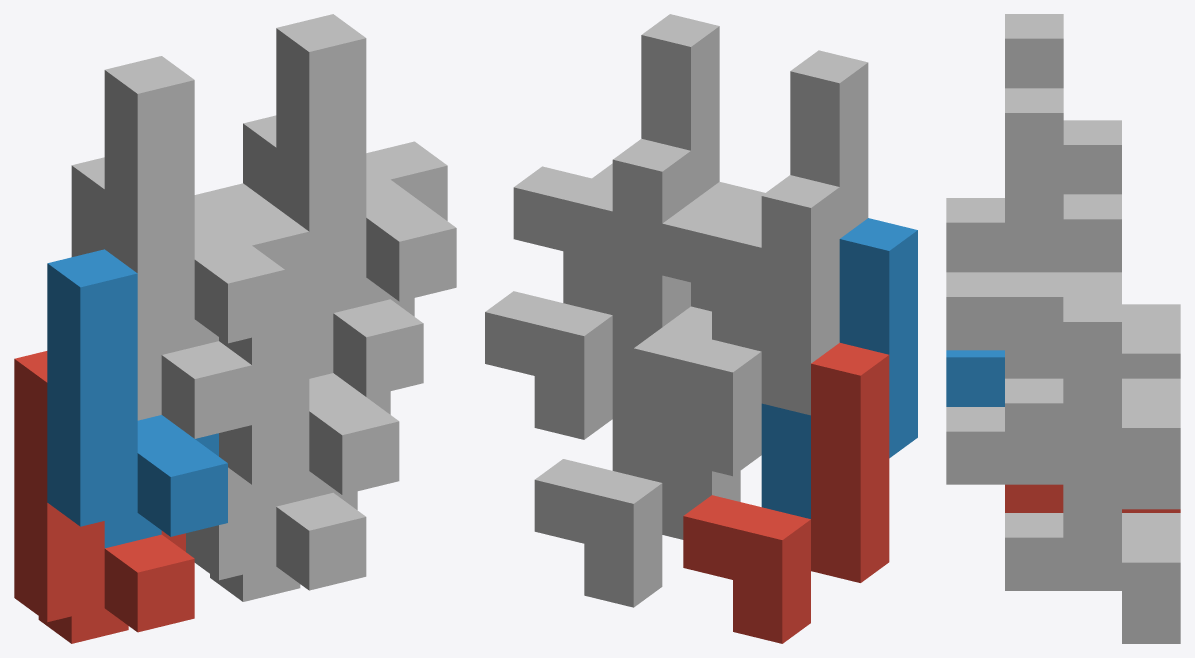
The model's file is tiling.obj.
3 renders of one model, left to right at view 1: azimuth 30°, elevation 25°; view 2: azimuth 150°, elevation 25°; view 3: azimuth 270°, elevation 25°, orthographic. The views are drawn at different scales.
Parts seen in each view (by area): view 1: copy_1_domain_8, copy_1_domain_2, copy_1_domain_4, copy_1_domain_6, copy_1_domain_1, copy_1_domain_5, copy_1_domain_3, copy_1_domain_7; view 2: copy_1_domain_1, copy_1_domain_3, copy_1_domain_7, copy_1_domain_4, copy_1_domain_8, copy_1_domain_5, copy_1_domain_2, copy_1_domain_6; view 3: copy_1_domain_8, copy_1_domain_7, copy_1_domain_5, copy_1_domain_6, copy_1_domain_4, copy_1_domain_3, copy_1_domain_2, copy_1_domain_1.
Boxes of the visible parts, left/top/right/bottom form: copy_1_domain_8: left=276, top=14, right=456, bottom=312; copy_1_domain_2: left=47, top=249, right=227, bottom=548; copy_1_domain_4: left=104, top=56, right=284, bottom=354; copy_1_domain_6: left=219, top=207, right=399, bottom=506; copy_1_domain_1: left=14, top=351, right=194, bottom=643; copy_1_domain_5: left=186, top=467, right=366, bottom=601; copy_1_domain_3: left=71, top=157, right=251, bottom=438; copy_1_domain_7: left=243, top=115, right=423, bottom=396; copy_1_domain_1: left=683, top=343, right=889, bottom=643; copy_1_domain_3: left=633, top=175, right=839, bottom=476; copy_1_domain_7: left=485, top=138, right=690, bottom=439; copy_1_domain_4: left=662, top=50, right=868, bottom=351; copy_1_domain_8: left=513, top=14, right=719, bottom=314; copy_1_domain_5: left=534, top=306, right=740, bottom=607; copy_1_domain_2: left=761, top=218, right=917, bottom=518; copy_1_domain_6: left=612, top=181, right=764, bottom=482; copy_1_domain_8: left=946, top=88, right=1121, bottom=403; copy_1_domain_7: left=1005, top=194, right=1180, bottom=509; copy_1_domain_5: left=1005, top=513, right=1180, bottom=643; copy_1_domain_6: left=946, top=350, right=1121, bottom=537; copy_1_domain_4: left=946, top=14, right=1063, bottom=272; copy_1_domain_3: left=1063, top=120, right=1180, bottom=378; copy_1_domain_2: left=946, top=350, right=1004, bottom=406; copy_1_domain_1: left=1005, top=484, right=1180, bottom=512.
Size of the model in its own units: 7 by 10 by 4.
